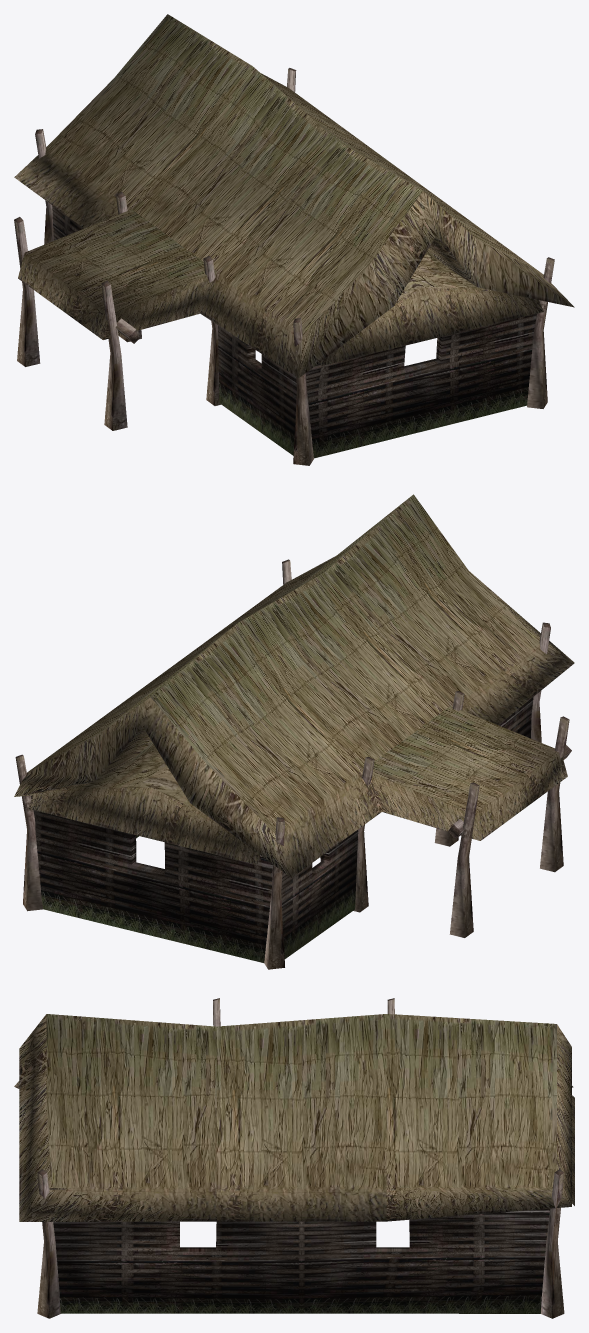
File: house5-02.obj
3 views of the same model, one above another, from view 1: azimuth 30°, elevation 25°; view 2: azimuth 150°, elevation 25°; view 3: azimuth 270°, elevation 25° (orthographic). The views are drawn at different scales.
Size of the model in its own units: 9.07 by 5.68 by 11.8.
Materials: 1 (1 with a texture image).
